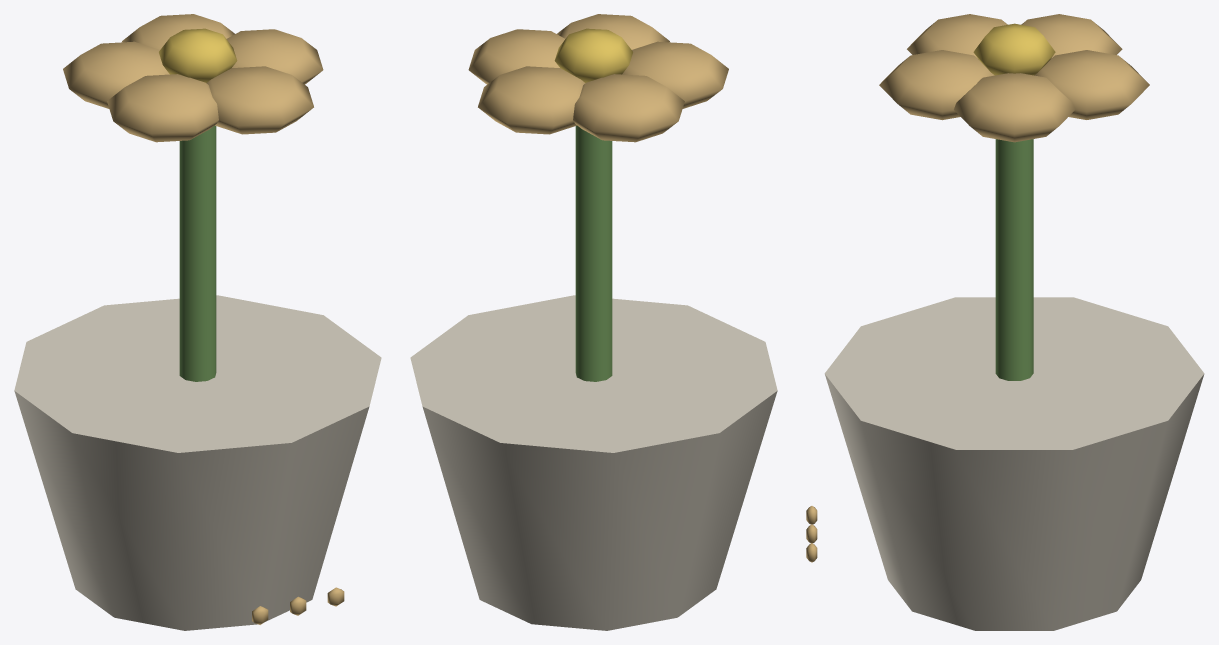
3 views of the same model, side by side, from view 1: azimuth 30°, elevation 25°; view 2: azimuth 150°, elevation 25°; view 3: azimuth 270°, elevation 25° (orthographic).
Visible parts, largest first — view 1: g_s50; view 2: g_s50; view 3: g_s50.
Boxes of the visible parts, x1,y1,x2,y2 form: g_s50: (14, 14, 381, 630); g_s50: (410, 14, 777, 630); g_s50: (806, 14, 1204, 630).
Size of the model in its own units: 0.2853 by 0.48 by 0.3143.
